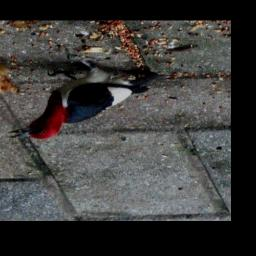Woodpecker: (2, 50, 169, 144)
